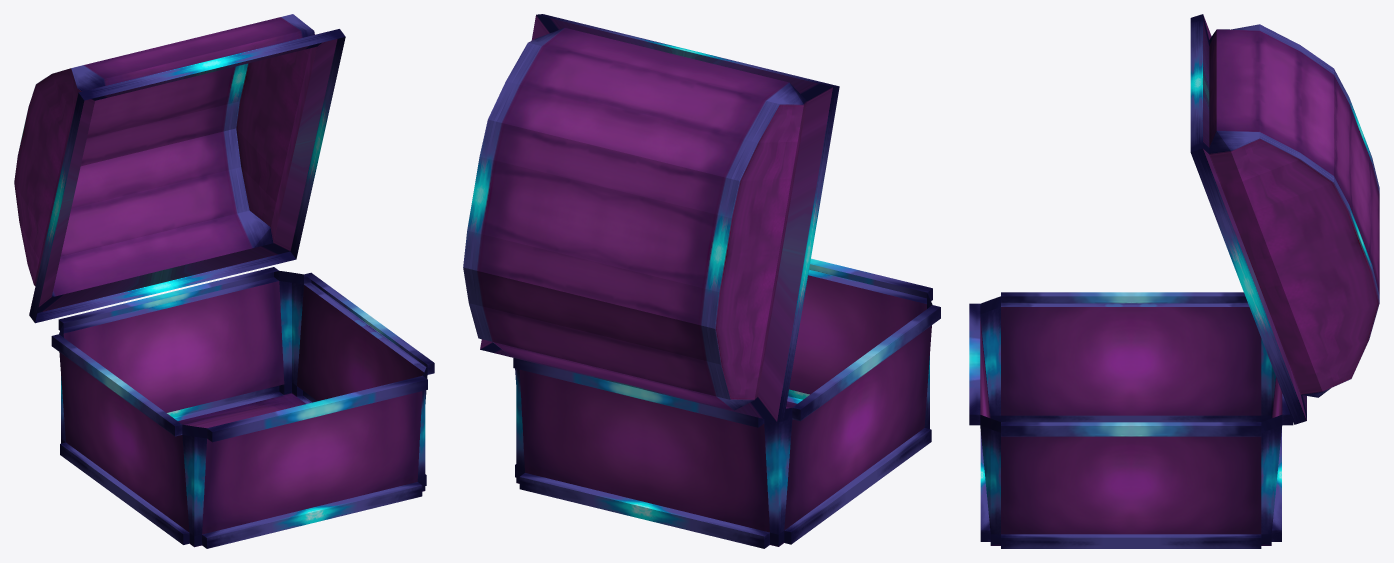
File: cofre_sinai.fbx
3 renders of one model, left to right at view 1: azimuth 30°, elevation 25°; view 2: azimuth 150°, elevation 25°; view 3: azimuth 270°, elevation 25°, orthographic. The views are drawn at different scales.
Visible parts, largest first — view 1: Cube, Cube.001; view 2: Cube.001, Cube; view 3: Cube, Cube.001.
Boxes of the visible parts, box(x1,y1,x2,y2) form: Cube: box(51, 267, 434, 548); Cube.001: box(14, 14, 345, 323); Cube.001: box(463, 14, 839, 421); Cube: box(513, 258, 940, 548); Cube: box(969, 292, 1293, 548); Cube.001: box(1190, 14, 1379, 424).
Bounding box in the file's own units: 226 × 319 × 292.
2 materials, 2 textured.
